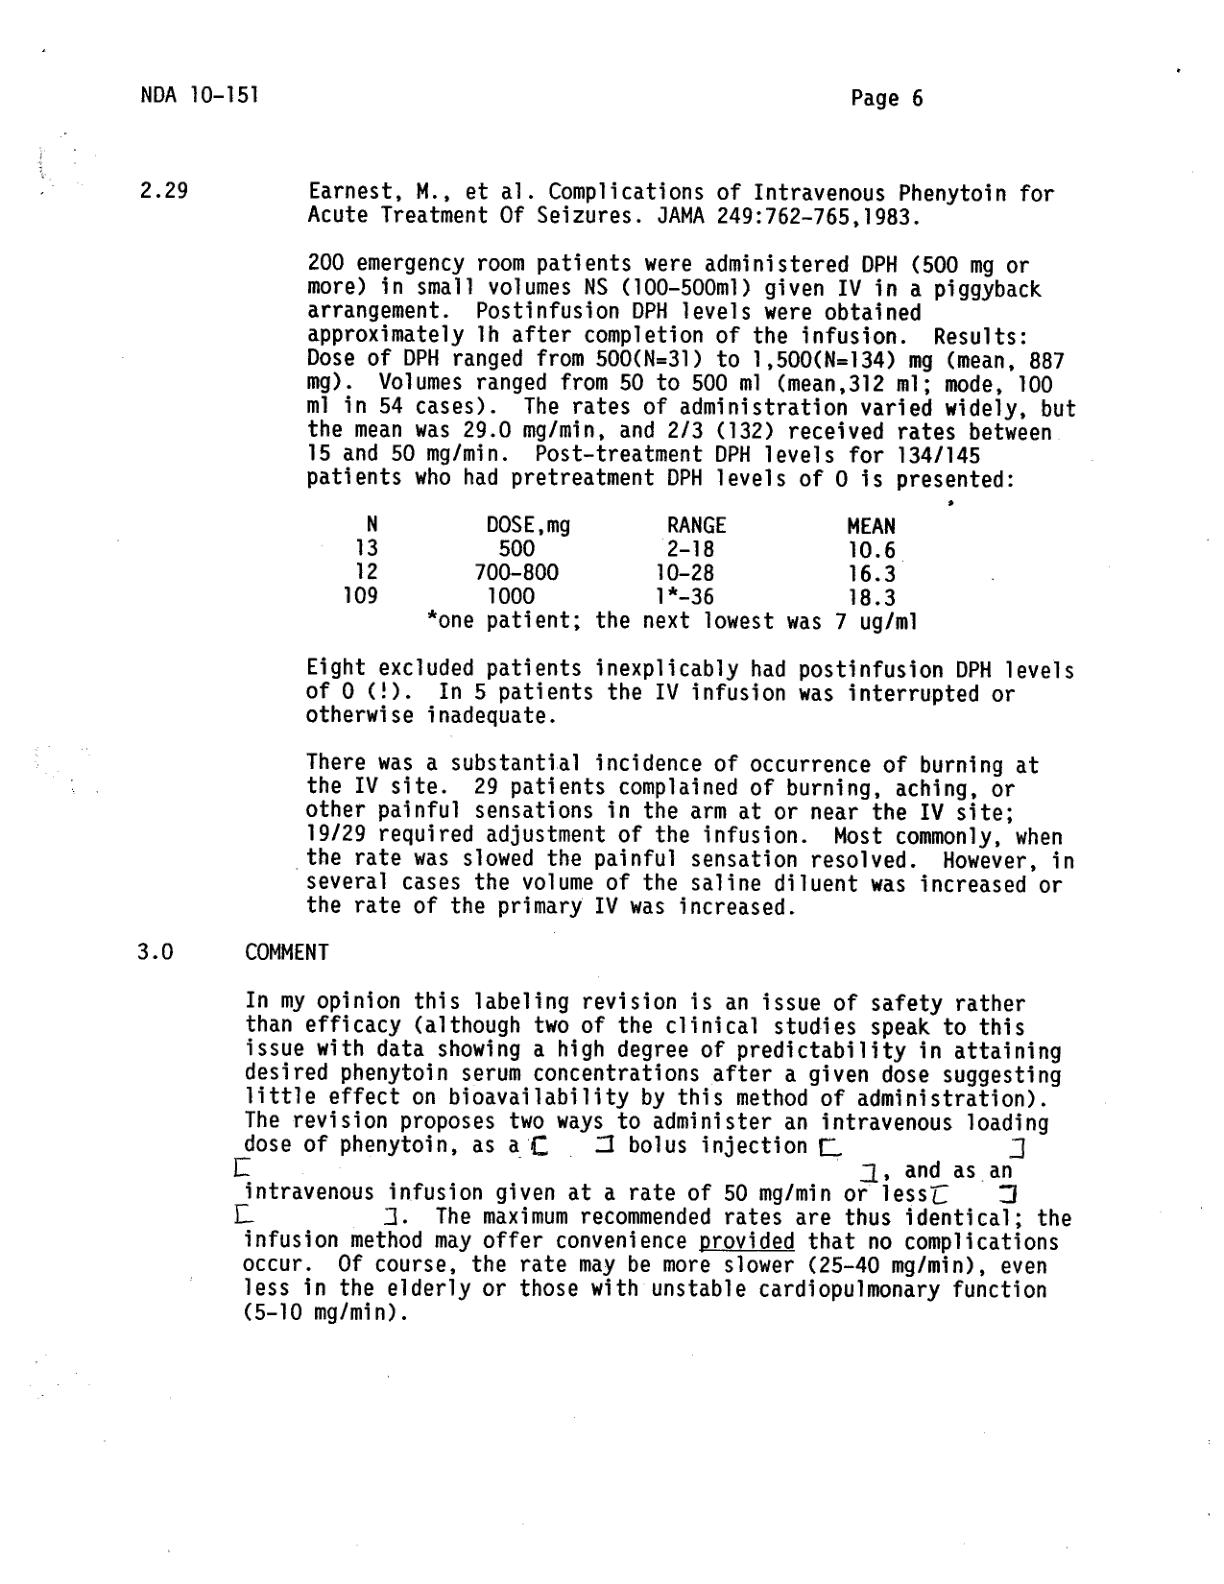nolines: (346, 510, 923, 634)
